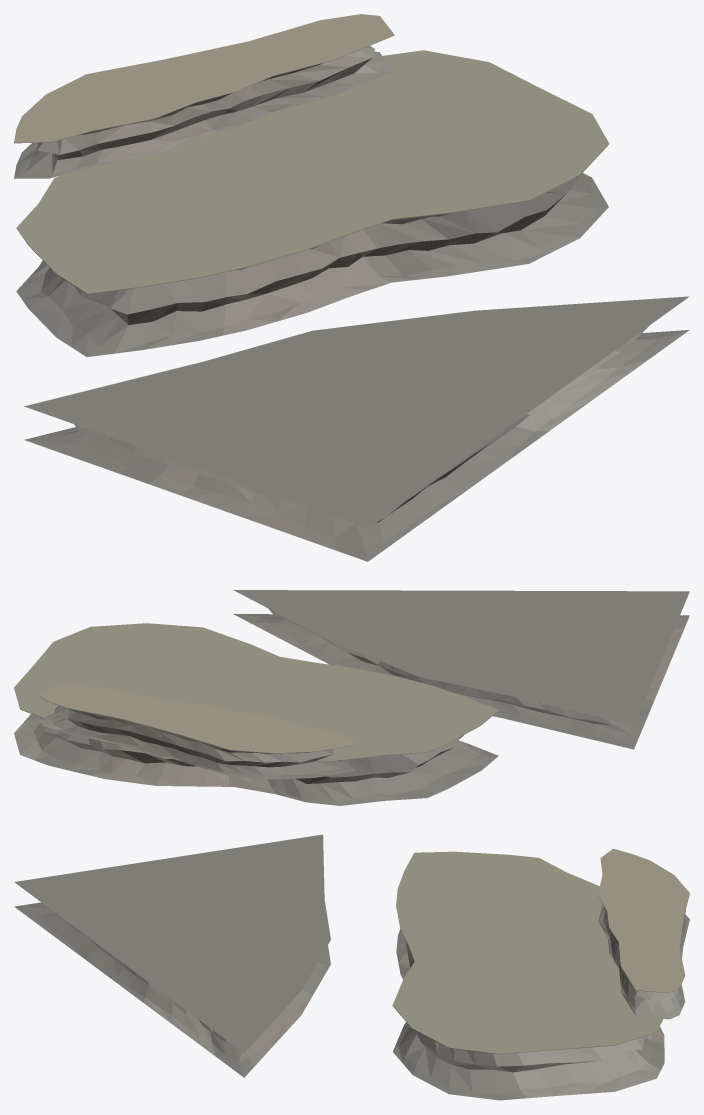
Rendered from RockTerrainFamilyV1.glb.
3 views of the same model, one above another, from view 1: azimuth 30°, elevation 25°; view 2: azimuth 150°, elevation 25°; view 3: azimuth 270°, elevation 25° (orthographic). The views are drawn at different scales.
Parts seen in each view (by area): view 1: ForegroundBank, PlayableGround, MainPlatform, UpperTerraceGround, UpperTerraceCliff; view 2: ForegroundBank, PlayableGround, MainPlatform, UpperTerraceGround, UpperTerraceCliff; view 3: ForegroundBank, PlayableGround, MainPlatform, UpperTerraceGround, UpperTerraceCliff.
Boxes of the visible parts, x1,y1,x2,y2 form: ForegroundBank: (24, 296, 689, 561); PlayableGround: (16, 50, 609, 294); MainPlatform: (16, 173, 608, 356); UpperTerraceGround: (14, 14, 394, 143); UpperTerraceCliff: (14, 46, 393, 178); ForegroundBank: (233, 590, 689, 749); PlayableGround: (14, 623, 498, 760); MainPlatform: (14, 710, 498, 805); UpperTerraceGround: (39, 683, 356, 753); UpperTerraceCliff: (39, 695, 355, 779); ForegroundBank: (14, 834, 330, 1077); PlayableGround: (392, 851, 662, 1054); MainPlatform: (393, 929, 664, 1100); UpperTerraceGround: (598, 848, 689, 993); UpperTerraceCliff: (598, 876, 689, 1019).
Bounding box in the file's own units: 79.59 × 11.74 × 92.37.
